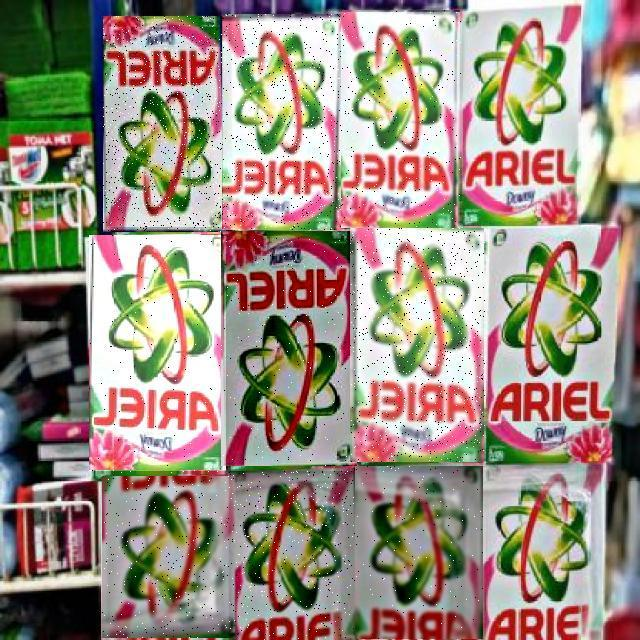Detergent: (89, 236, 226, 474), (221, 231, 357, 466), (352, 229, 486, 463), (350, 229, 484, 463), (104, 16, 232, 232), (342, 12, 462, 228), (342, 10, 460, 227), (225, 15, 341, 231), (355, 466, 483, 639), (229, 471, 357, 640), (102, 476, 235, 638)
